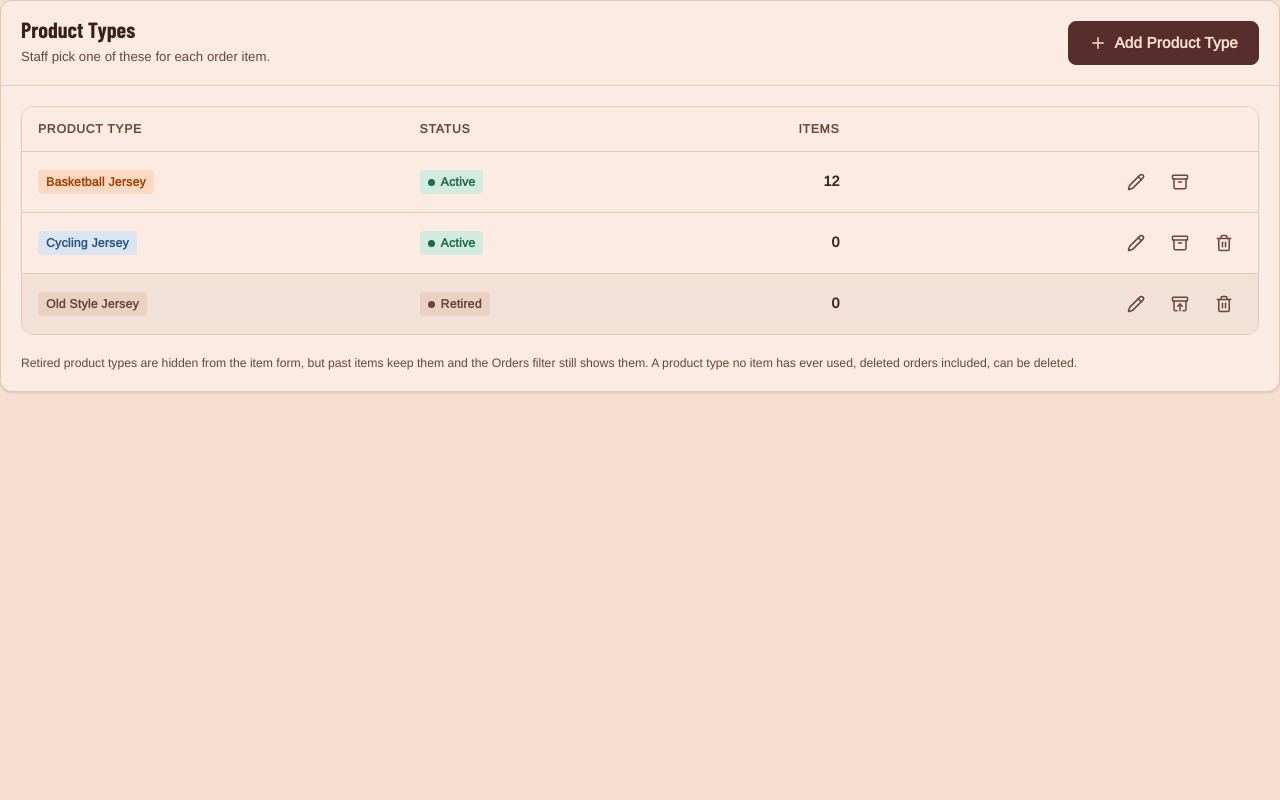
Scenario: S1 list card: product-types › deletes a never-used entry after a confirmation in the list words
Expected: the table named "Product types" is shown, [22,107,1258,334]
Click the button named "Delete Cycling Jersey" at point(1224, 243), box [1206,225,1242,261]
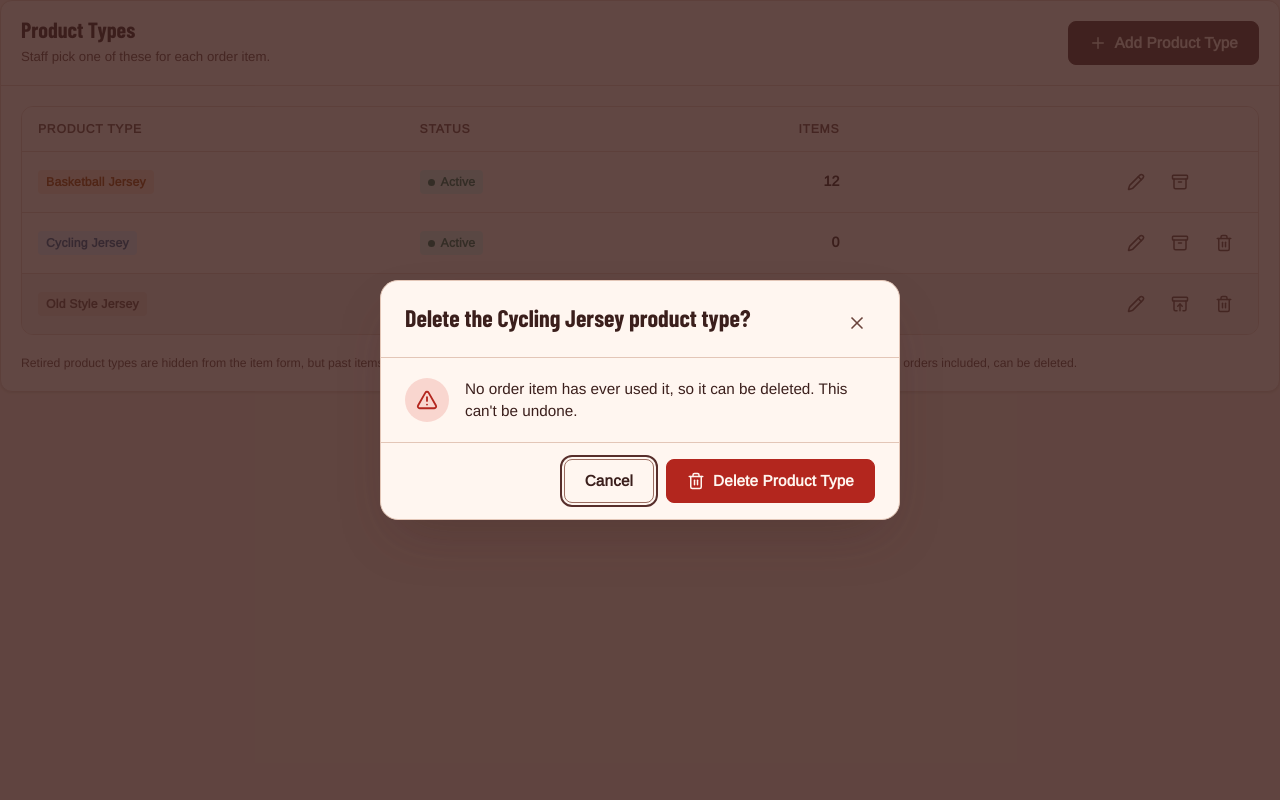
Click the button "Delete Product Type" at point(771, 481), box [666,459,875,503]
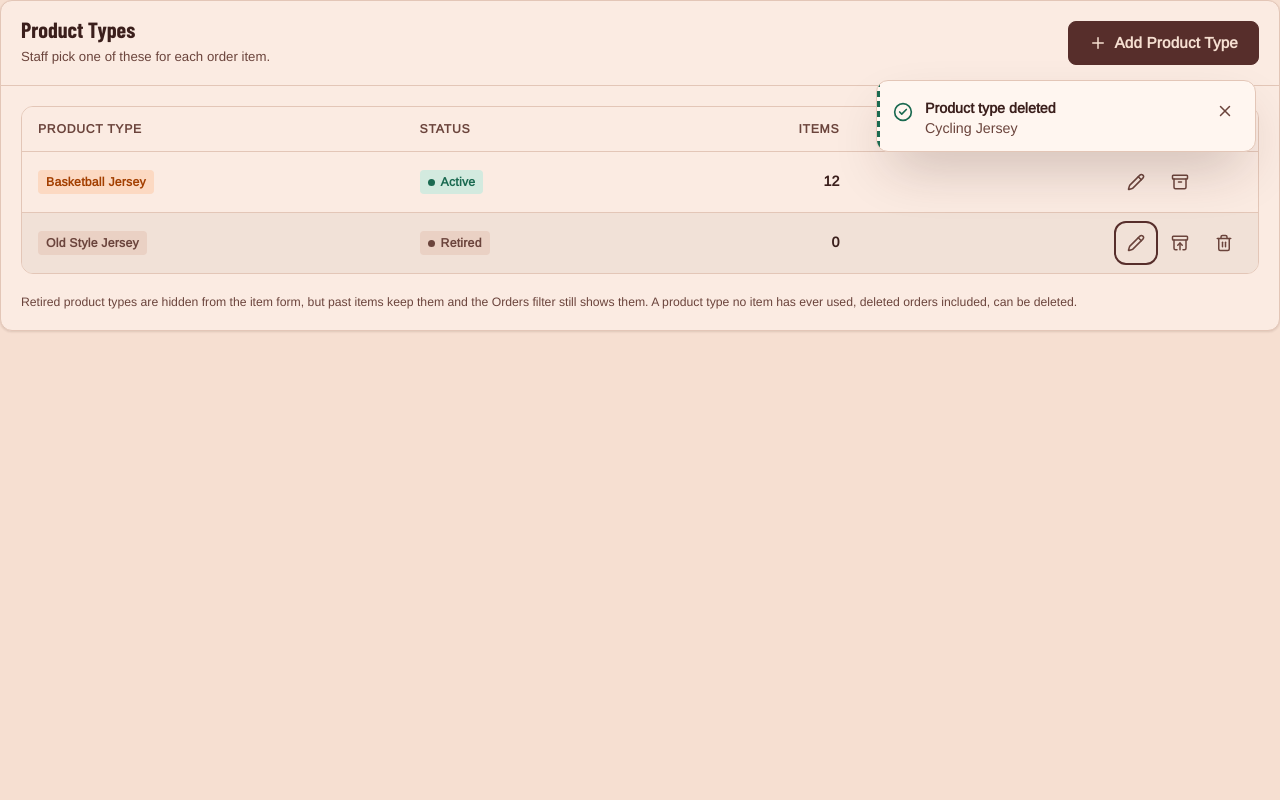
Now the text "Product type deleted" is shown, box [925,101,1056,116]
